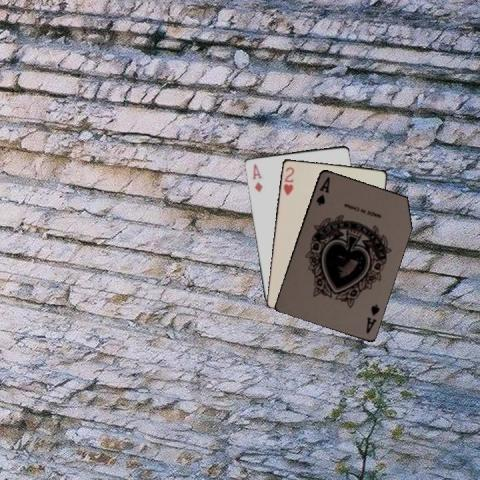2h: (280, 164, 295, 197)
Ad: (249, 161, 264, 193)
As: (313, 173, 331, 207), (362, 300, 380, 334)
